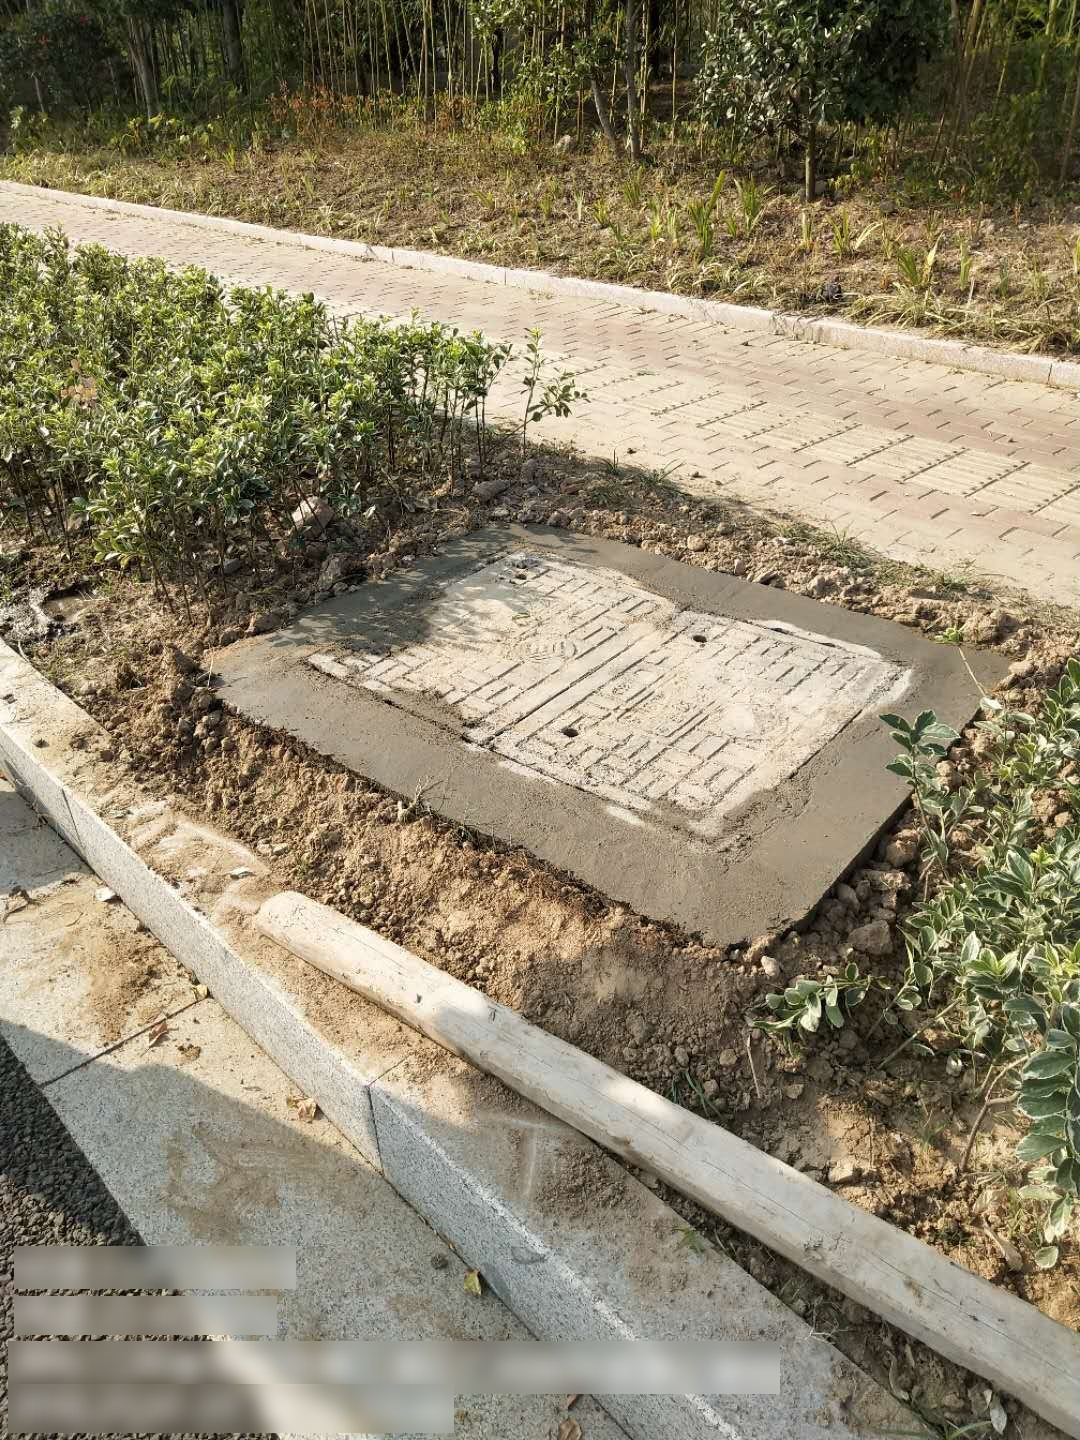good: (286, 539, 916, 859)
